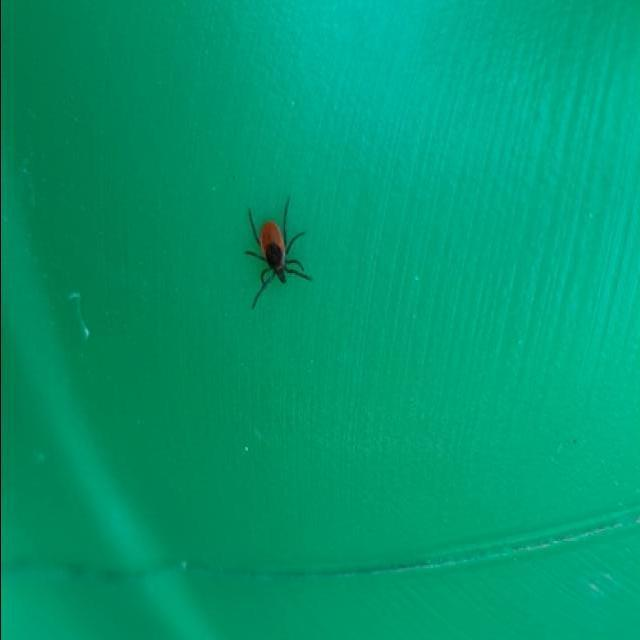Ixodes Ricinus-F: (238, 195, 311, 312)
